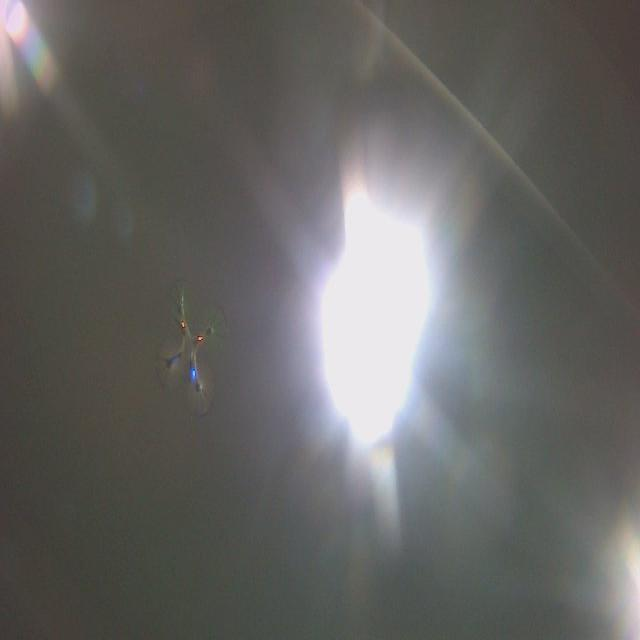drone: (154, 276, 231, 420)
